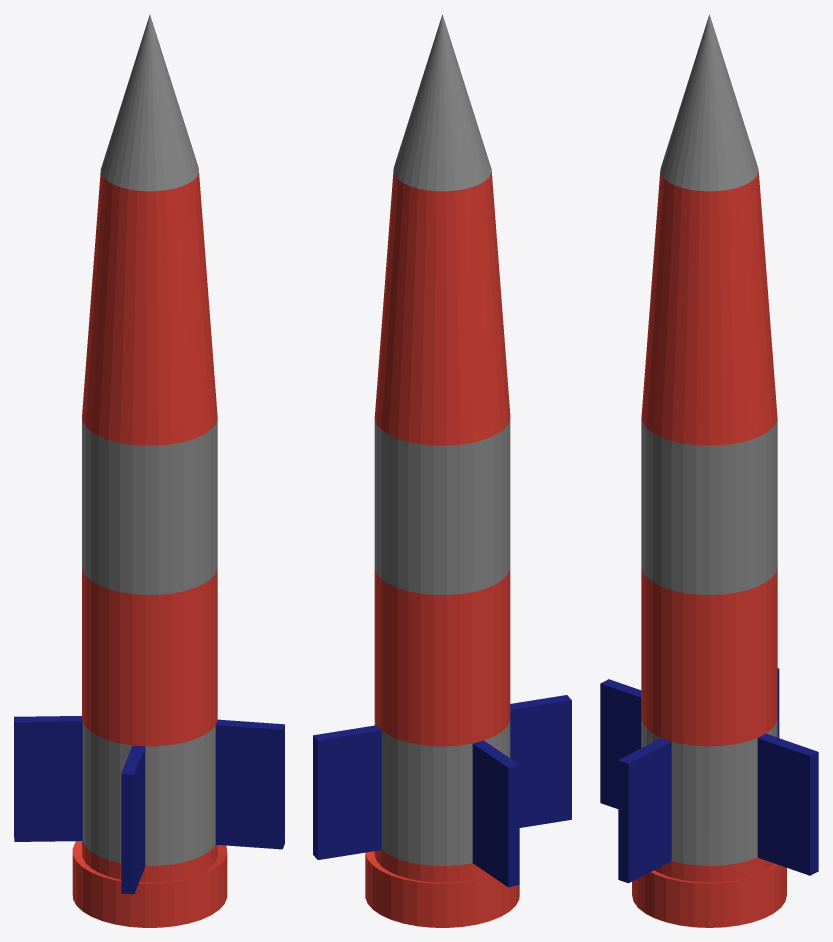
Rendered from Missile.fbx.
3 views of the same model, side by side, from view 1: azimuth 30°, elevation 25°; view 2: azimuth 150°, elevation 25°; view 3: azimuth 270°, elevation 25° (orthographic).
Visible parts, largest first — view 1: Cylinder; view 2: Cylinder; view 3: Cylinder.
Part boxes in pixels (x1,y1,x2,y2): Cylinder: (14, 14, 284, 927); Cylinder: (313, 14, 571, 927); Cylinder: (600, 14, 818, 927).
Size of the model in its own units: 171 by 715 by 160.
